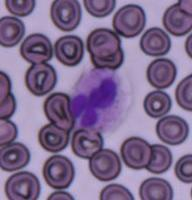N: (68, 67, 134, 134)
